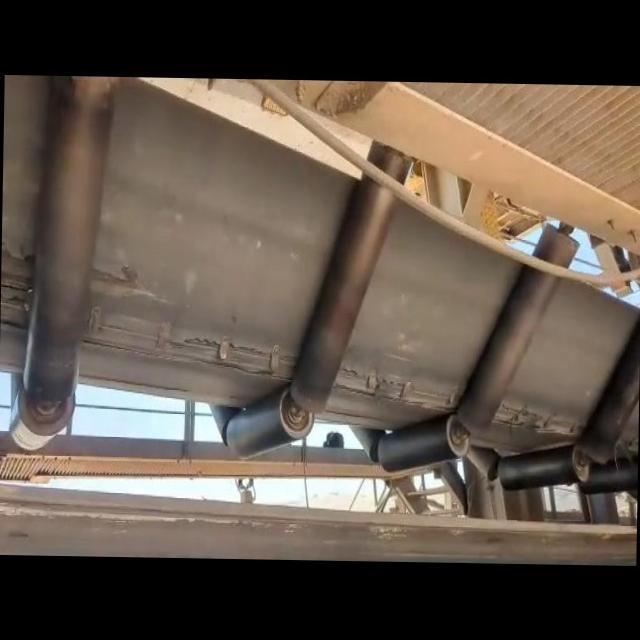Tear: (80, 304, 296, 383), (336, 360, 460, 415), (498, 392, 590, 442), (0, 248, 40, 332)
Wear: (90, 253, 168, 307)
